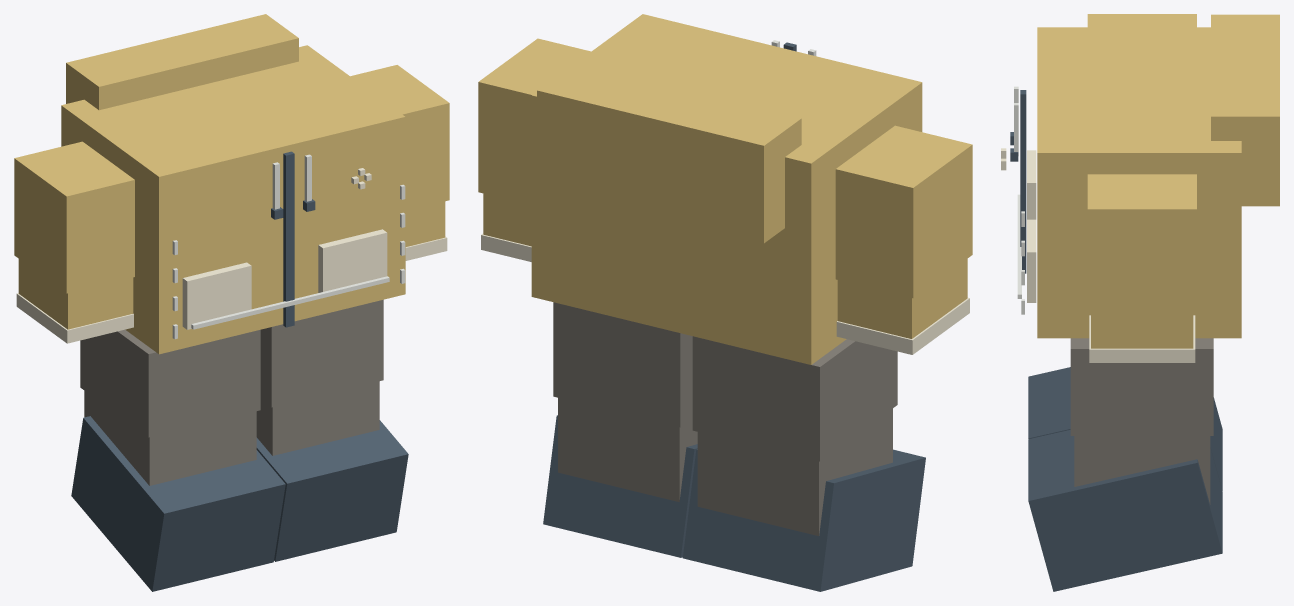
File: hoodie-amber.glb
The picture shows the model from 3 angles, left to right: view 1: azimuth 30°, elevation 25°; view 2: azimuth 150°, elevation 25°; view 3: azimuth 270°, elevation 25°; orthographic projection. The views are drawn at different scales.
Visible parts, largest first — view 1: jacket, shoe-Right, upper-sleeve-Right, trouser-Right, shoe-Left, hood-back, trouser-Left, lower-trouser-Right, upper-sleeve-Left, lower-trouser-Left, lower-sleeve-Right, pocket--1 (+6 smaller); view 2: jacket, hood-back, upper-sleeve-Right, trouser-Right, shoe-Right, trouser-Left, lower-trouser-Right, lower-trouser-Left, upper-sleeve-Left, shoe-Left, lower-sleeve-Right, cuff-Right (+2 smaller); view 3: jacket, shoe-Left, upper-sleeve-Left, trouser-Left, hood-back, lower-trouser-Left, lower-sleeve-Left, shoe-Right, cuff-Left, upper-sleeve-Right, zip, pocket-1 (+2 smaller).
Boxes of the visible parts, x1=… form: jacket: x1=61, y1=45, x2=405, y2=354; shoe-Right: x1=71, y1=416, x2=285, y2=591; upper-sleeve-Right: x1=14, y1=141, x2=134, y2=293; trouser-Right: x1=80, y1=329, x2=260, y2=437; shoe-Left: x1=256, y1=420, x2=408, y2=561; hood-back: x1=66, y1=14, x2=298, y2=110; trouser-Left: x1=260, y1=299, x2=383, y2=407; lower-trouser-Right: x1=84, y1=391, x2=256, y2=485; upper-sleeve-Left: x1=350, y1=65, x2=449, y2=210; lower-trouser-Left: x1=256, y1=381, x2=379, y2=455; lower-sleeve-Right: x1=18, y1=259, x2=133, y2=329; pocket--1: x1=182, y1=262, x2=251, y2=329; jacket: x1=531, y1=14, x2=922, y2=364; hood-back: x1=537, y1=63, x2=801, y2=243; upper-sleeve-Right: x1=835, y1=125, x2=972, y2=298; trouser-Right: x1=692, y1=336, x2=897, y2=461; shoe-Right: x1=682, y1=449, x2=925, y2=591; trouser-Left: x1=553, y1=302, x2=692, y2=427; lower-trouser-Right: x1=697, y1=408, x2=892, y2=535; lower-trouser-Left: x1=558, y1=398, x2=697, y2=501; upper-sleeve-Left: x1=478, y1=38, x2=590, y2=204; shoe-Left: x1=543, y1=415, x2=697, y2=557; lower-sleeve-Right: x1=837, y1=259, x2=967, y2=338; cuff-Right: x1=836, y1=297, x2=969, y2=354; jacket: x1=1037, y1=27, x2=1241, y2=338; shoe-Left: x1=1028, y1=429, x2=1222, y2=591; upper-sleeve-Left: x1=1087, y1=174, x2=1196, y2=310; trouser-Left: x1=1070, y1=338, x2=1213, y2=435; hood-back: x1=1211, y1=14, x2=1279, y2=206; lower-trouser-Left: x1=1074, y1=436, x2=1210, y2=504; lower-sleeve-Left: x1=1091, y1=310, x2=1193, y2=348; shoe-Right: x1=1028, y1=367, x2=1222, y2=490; cuff-Left: x1=1089, y1=315, x2=1195, y2=362; upper-sleeve-Right: x1=1087, y1=14, x2=1196, y2=27; zip: x1=1020, y1=90, x2=1026, y2=273; pocket-1: x1=1027, y1=219, x2=1036, y2=302.
Bounding box in the file's own units: 1.07 × 1.19 × 0.648.
